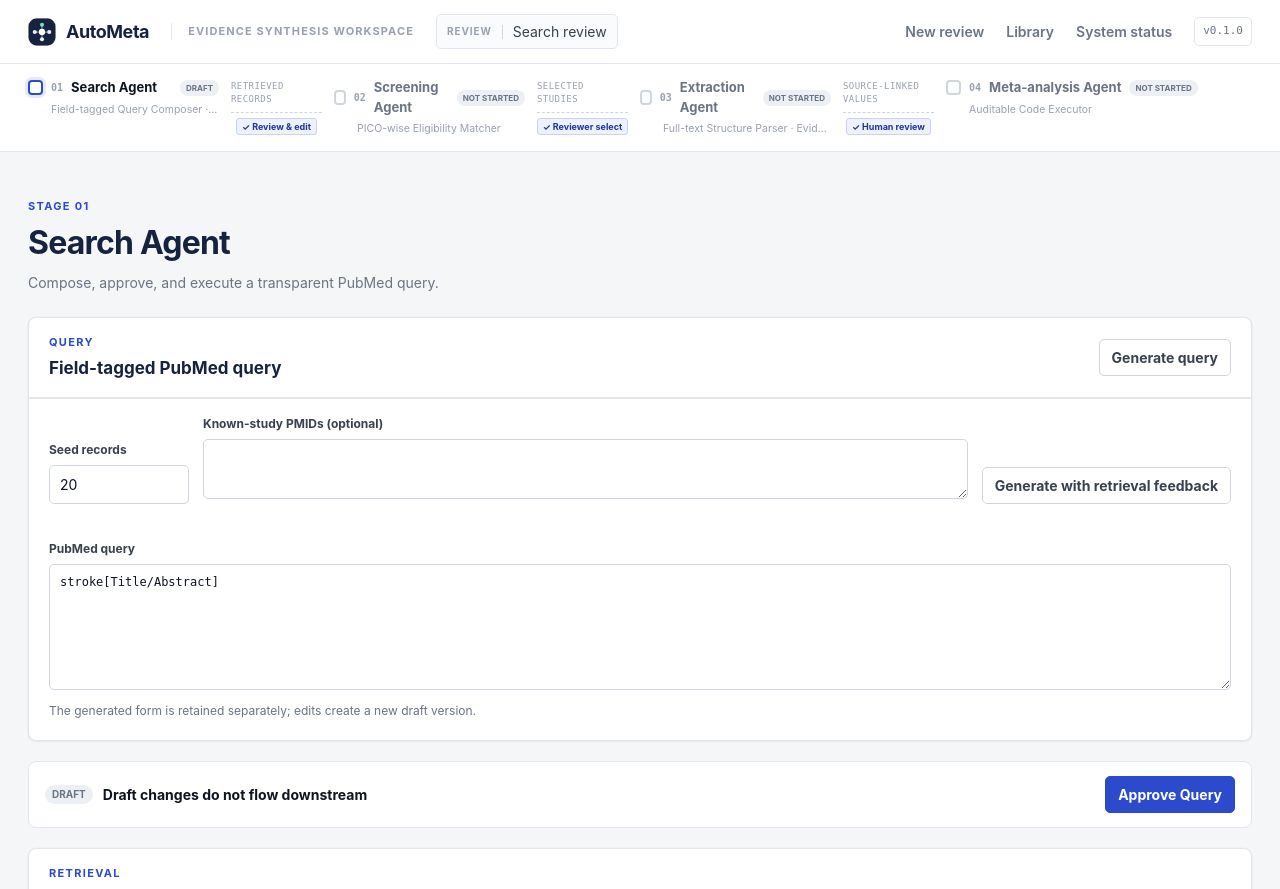
Test: SearchPage › autosaves an edited query and approves the current version
The width and height of the screenshot is (1280, 889).
Replace the text in the text box labelled "PubMed query" with "stroke AND rehabilitation": (640, 627) [49, 564, 1231, 690]
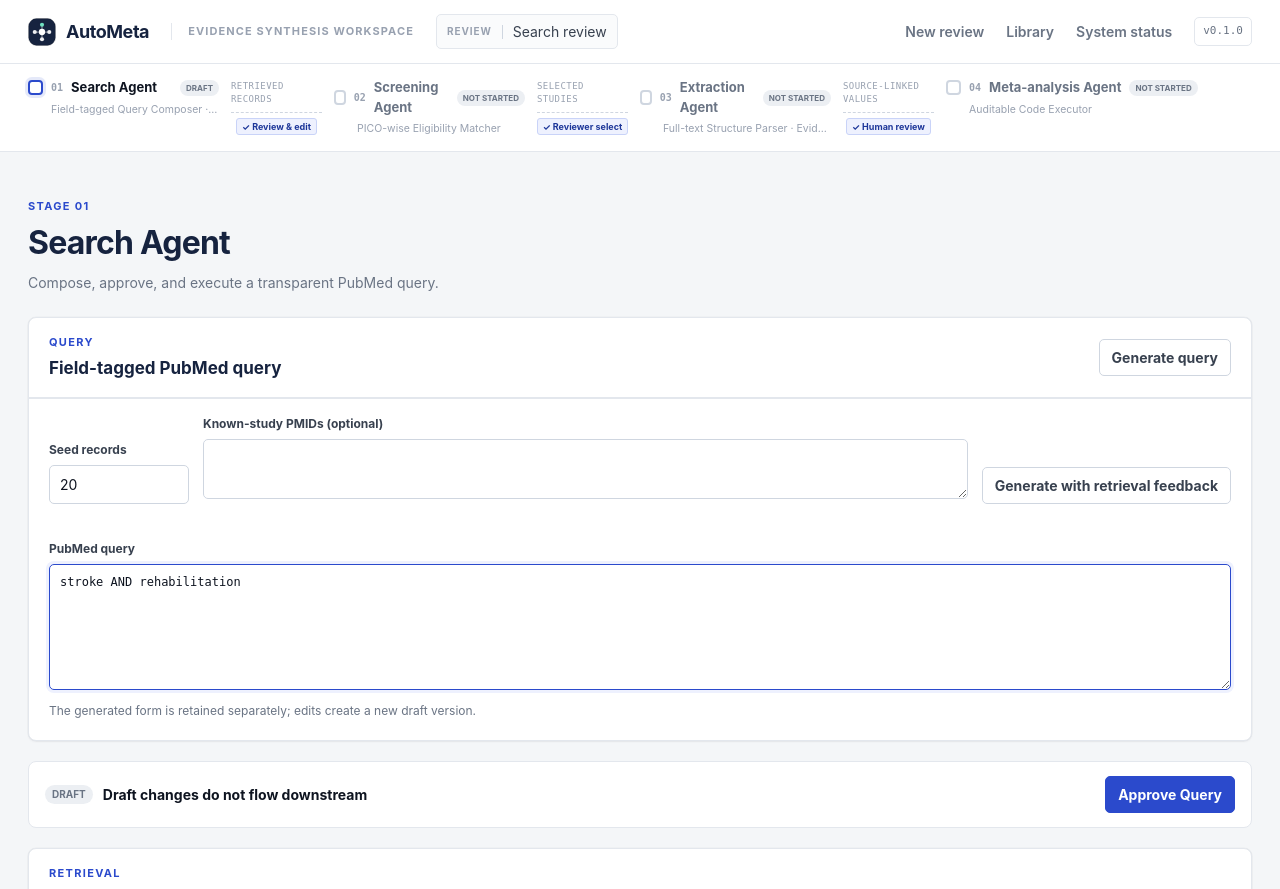
Click the button "Approve Query": (1170, 795) [1105, 776, 1235, 813]
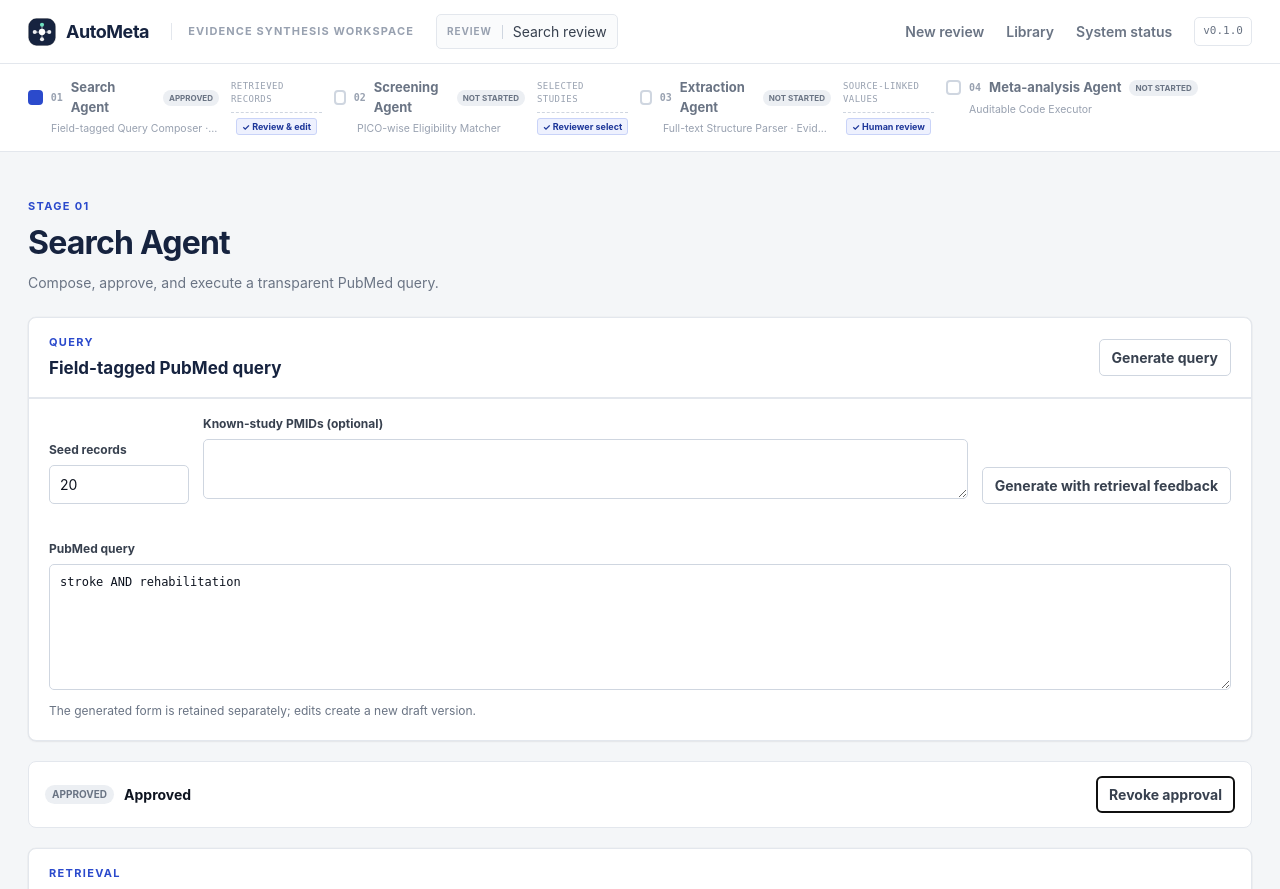
Expected: the 2nd text "Approved" is shown, [124, 784, 191, 805]
